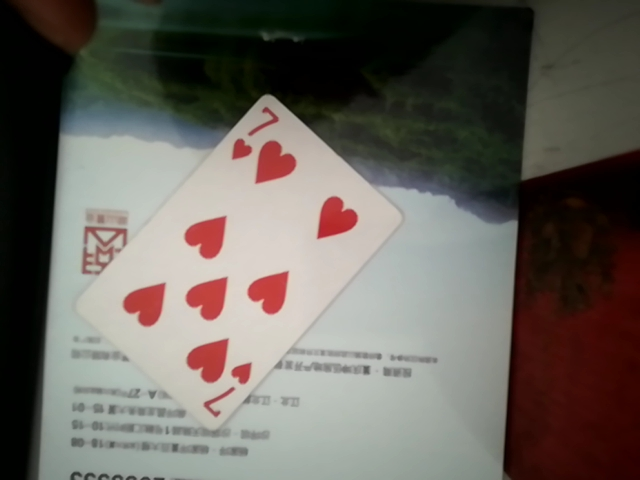hx 7: (66, 95, 401, 421)
